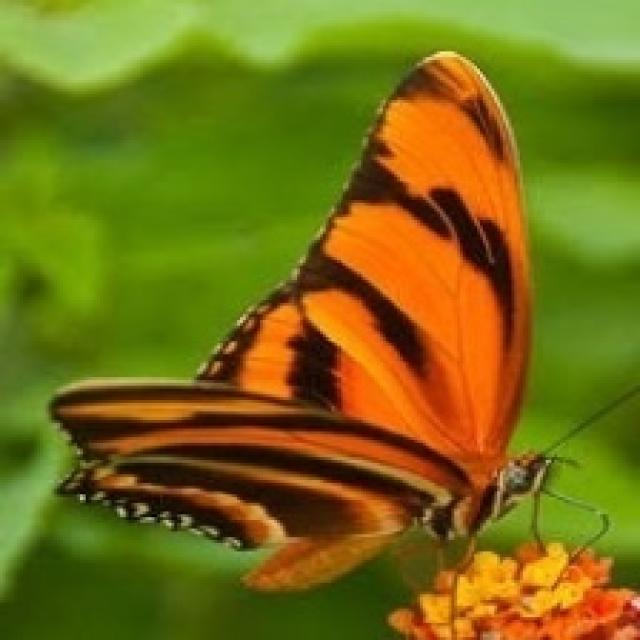butterfly: (46, 46, 637, 637)
